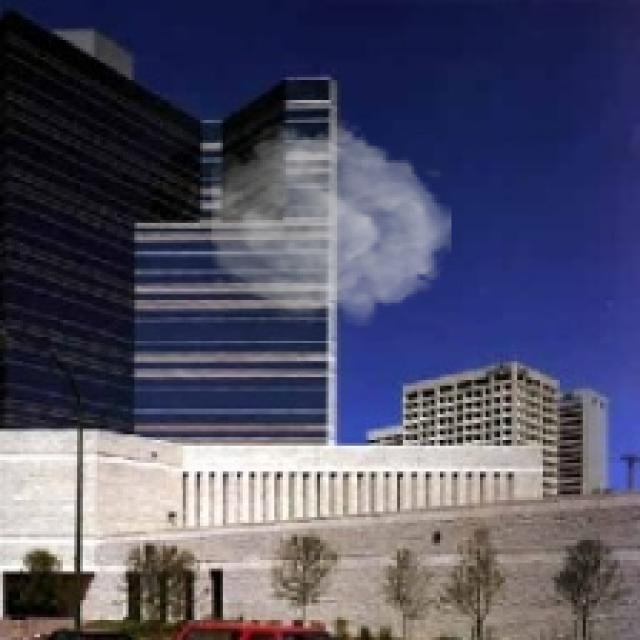smoke: (212, 117, 452, 329)
